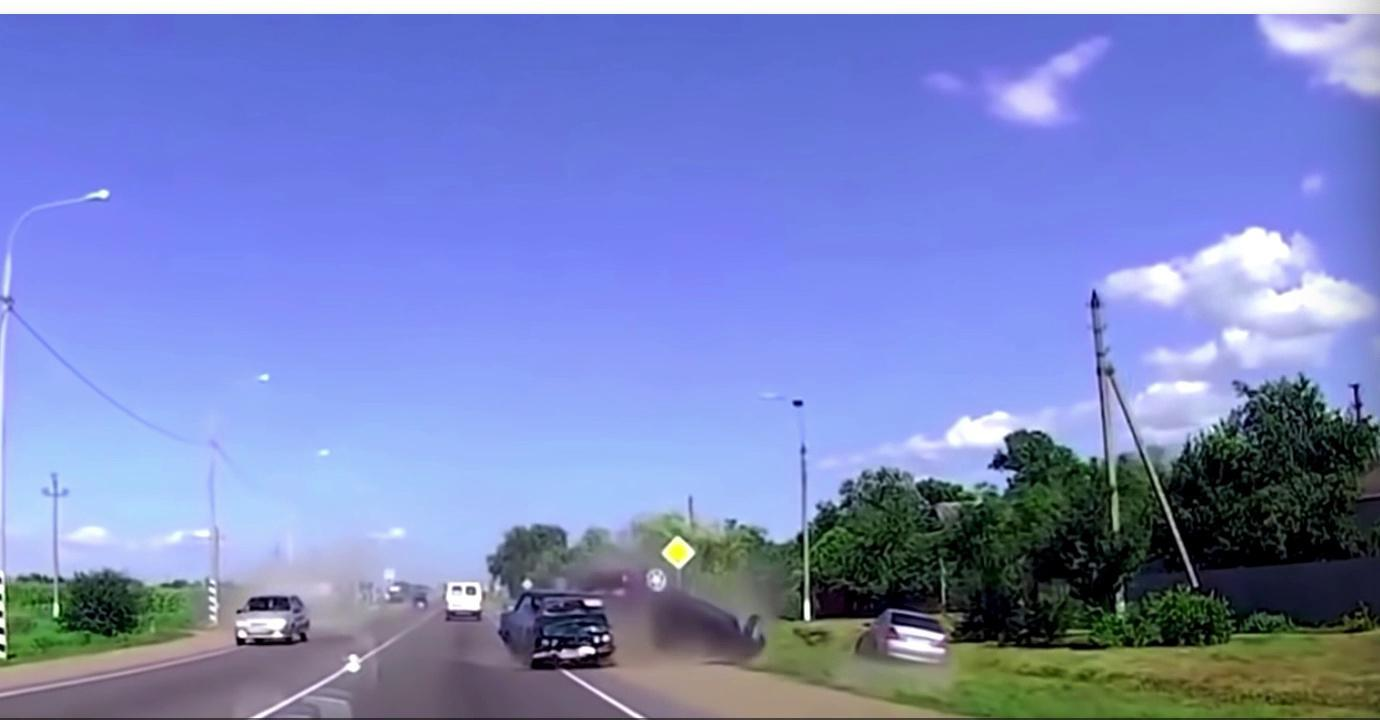car-accident: (498, 570, 768, 669)
